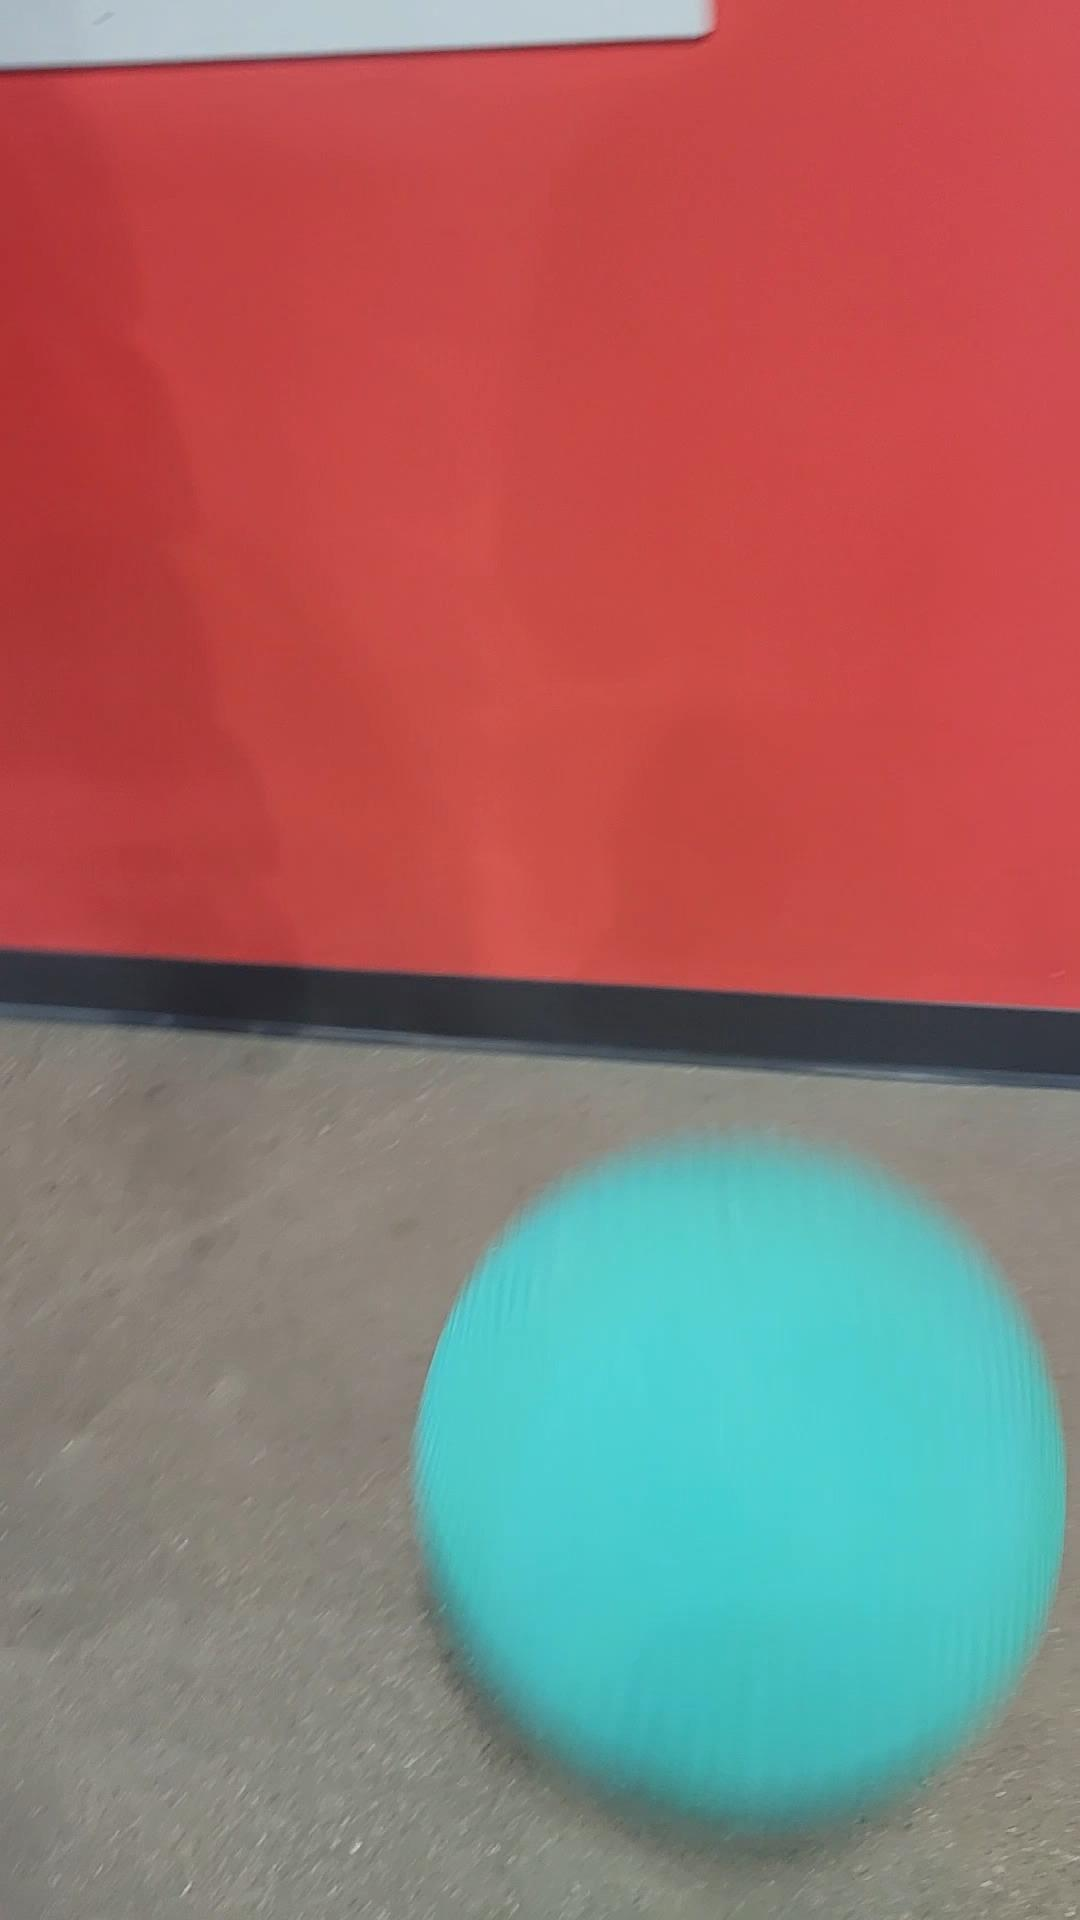algae: (415, 1135, 1052, 1837)
